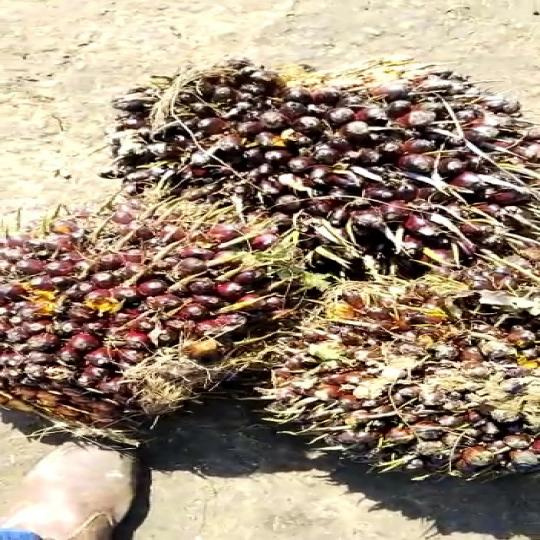kurang masak: (124, 46, 540, 285), (254, 236, 540, 488), (0, 190, 288, 438)
